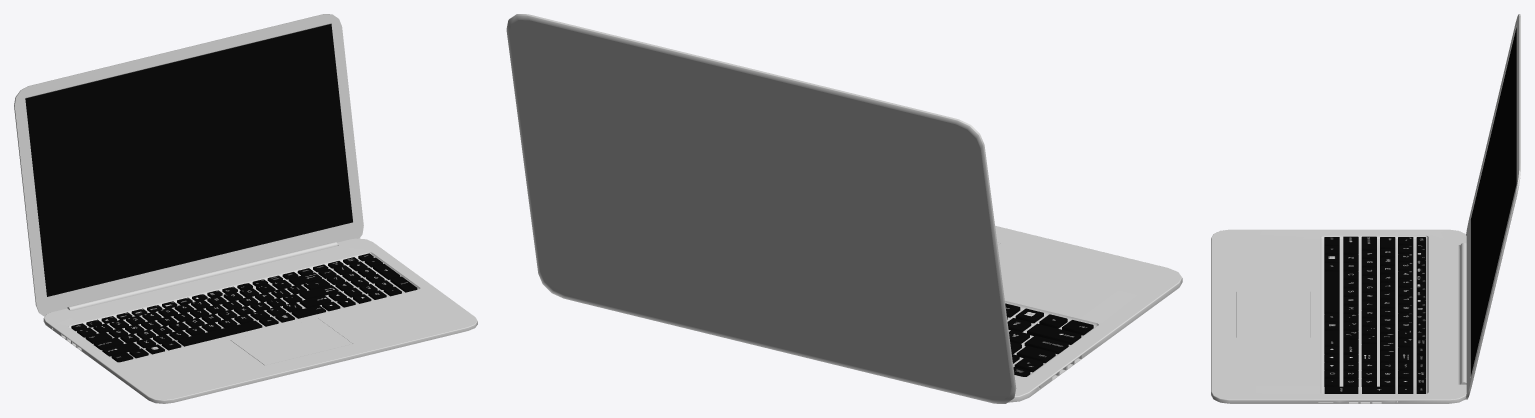
Rendered from laptop.glb.
The picture shows the model from 3 angles, left to right: view 1: azimuth 30°, elevation 25°; view 2: azimuth 150°, elevation 25°; view 3: azimuth 270°, elevation 25°; orthographic projection. The views are drawn at different scales.
Parts seen in each view (by area): view 1: Cube.002; view 2: Cube.002; view 3: Cube.002.
Boxes of the visible parts, x1,y1,x2,y2 form: Cube.002: (14, 14, 477, 403); Cube.002: (506, 14, 1182, 403); Cube.002: (1211, 14, 1520, 403).
Size of the model in its own units: 220 by 137 by 169.
3 materials, 1 textured.
